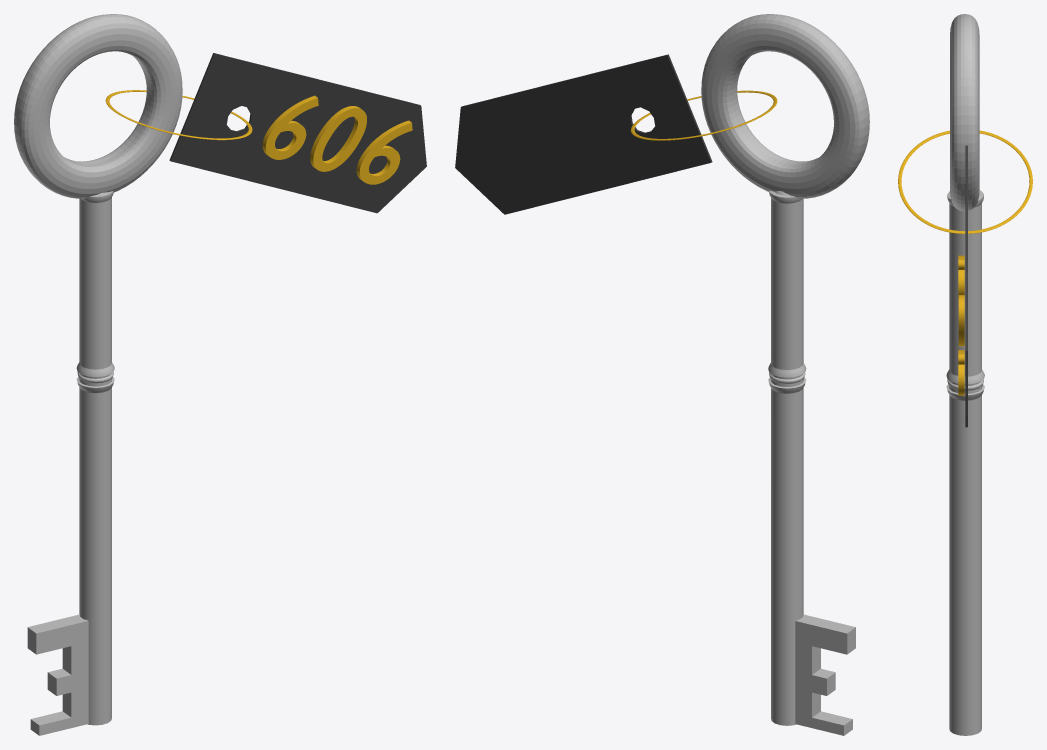
The model's file is key606.fbx.
3 renders of one model, left to right at view 1: azimuth 30°, elevation 25°; view 2: azimuth 150°, elevation 25°; view 3: azimuth 270°, elevation 25°, orthographic.
Parts seen in each view (by area): view 1: key606; view 2: key606; view 3: key606.
Boxes of the visible parts, x1,y1,x2,y2 form: key606: (14,14,426,735); key606: (455,14,869,735); key606: (898,14,1032,735).
Size of the model in its own units: 8.68 by 14.18 by 2.45.
